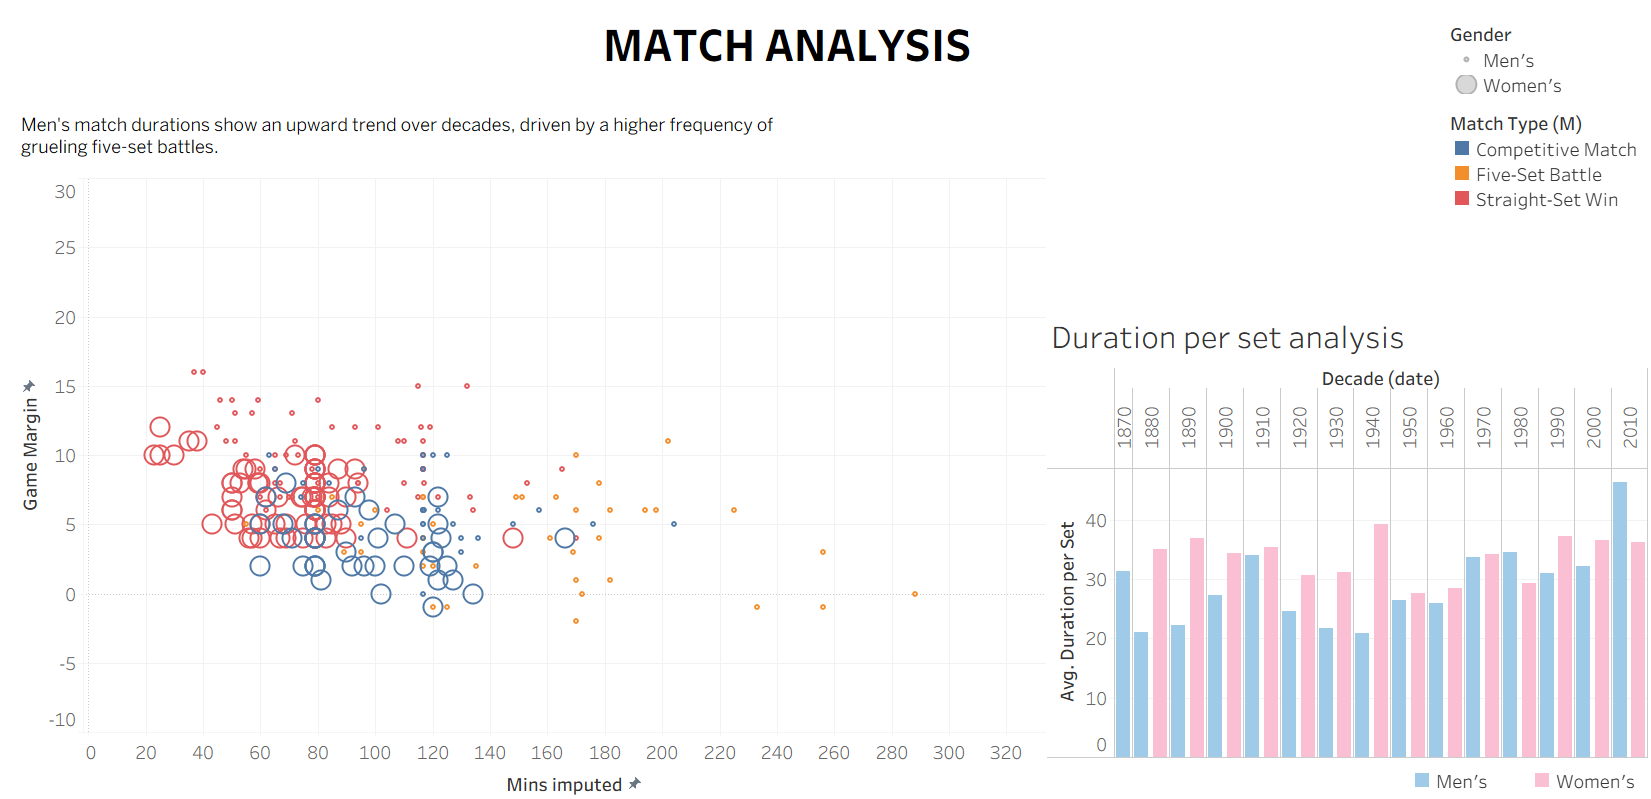

The page's visual inventory and layout, read from the dashboard file:
{"tool":"tableau","page":{"name":"Match Analysis","canvas":[1000,1000],"units":"permille","ordinal":2},"visuals":[{"type":"legend","title":"scatter plot of match","param":"[federated.01jto3704wzyrt1ezxsug0gk7e6s].[none:Gender:nk]","box":[876.9,27.3,84.5,94.3]},{"type":"text","box":[12.1,137.7,490,63.3]},{"type":"legend","title":"scatter plot of match","param":"[federated.01jto3704wzyrt1ezxsug0gk7e6s].[none:Calculation_1229868893806593:nk]","box":[876.9,137.7,116.5,125.3]},{"type":"worksheet","title":"scatter plot of match","mark":"Automatic","rows":["Game_Margin"],"cols":["Mins_imputed"],"box":[7.9,222.1,625.2,775.4]},{"type":"legend","title":"Duration per set","param":"[federated.01jto3704wzyrt1ezxsug0gk7e6s].[none:Gender:nk]","box":[881.1,277.9,84.5,94.3]},{"type":"worksheet","title":"Duration per set","mark":"Bar","rows":["Calculation_1229868895518726"],"cols":["Decade (date)","Gender"],"box":[633.7,387.1,363.3,604.2]}]}

Visuals, with their boxes on the dashboard's canvas, which has no fixed pixel size, in thousandths of its width and height (x1, y1, x2, y2). These are canvas units, not pixel positions in the 1651x799 screenshot, which may show the page scaled, cropped or inside an application window:
"scatter plot of match" legend: Rect(877, 27, 961, 122)
text: Rect(12, 138, 502, 201)
"scatter plot of match" legend: Rect(877, 138, 993, 263)
"scatter plot of match" worksheet: Rect(8, 222, 633, 998)
"Duration per set" legend: Rect(881, 278, 966, 372)
"Duration per set" worksheet (Bar marks): Rect(634, 387, 997, 991)
